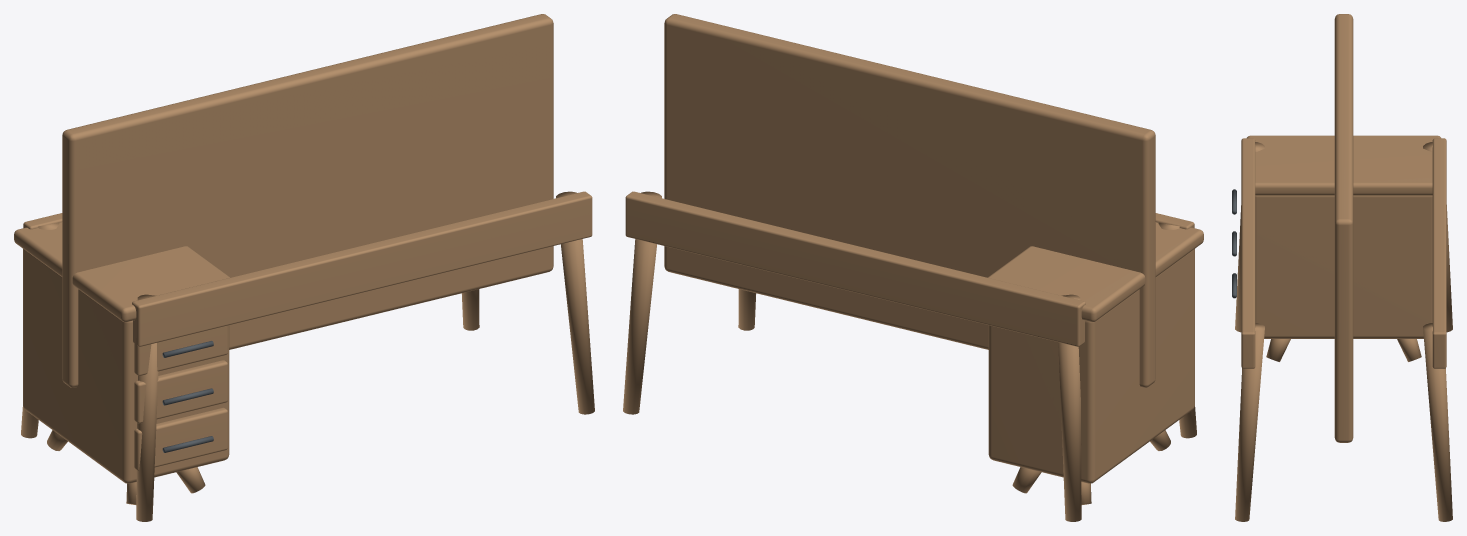
The model's file is atelier-executive-desk.glb.
The picture shows the model from 3 angles, left to right: view 1: azimuth 30°, elevation 25°; view 2: azimuth 150°, elevation 25°; view 3: azimuth 270°, elevation 25°; orthographic projection. The views are drawn at different scales.
Parts seen in each view (by area): view 1: legs.171, metal.134; view 2: legs.171; view 3: legs.171, metal.134.
Boxes of the visible parts, left/top/right/bottom form: legs.171: left=14, top=14, right=594, bottom=521; metal.134: left=162, top=341, right=213, bottom=452; legs.171: left=623, top=14, right=1203, bottom=521; legs.171: left=1235, top=14, right=1452, bottom=521; metal.134: left=1232, top=189, right=1236, bottom=298.
Size of the model in its own units: 1.6 by 1.11 by 0.7162.
